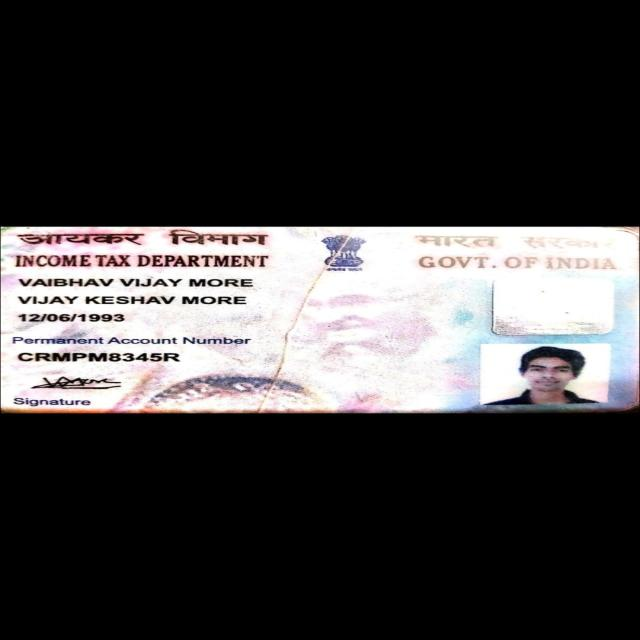pan_card: (0, 226, 640, 411)
